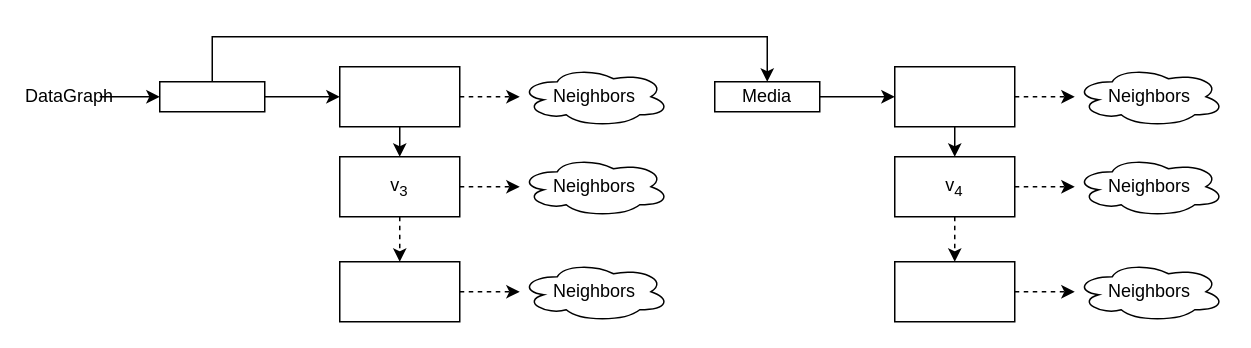
This 1251x348 diagram has some shape labels left out. Here are the shapes that lost their labels. From the top down, the centre of each, then its label:
the point at 211,96: Person
the point at 399,96: v 1
the point at 954,96: v 2
the point at 399,291: v m+n-1
the point at 954,291: v m+n
